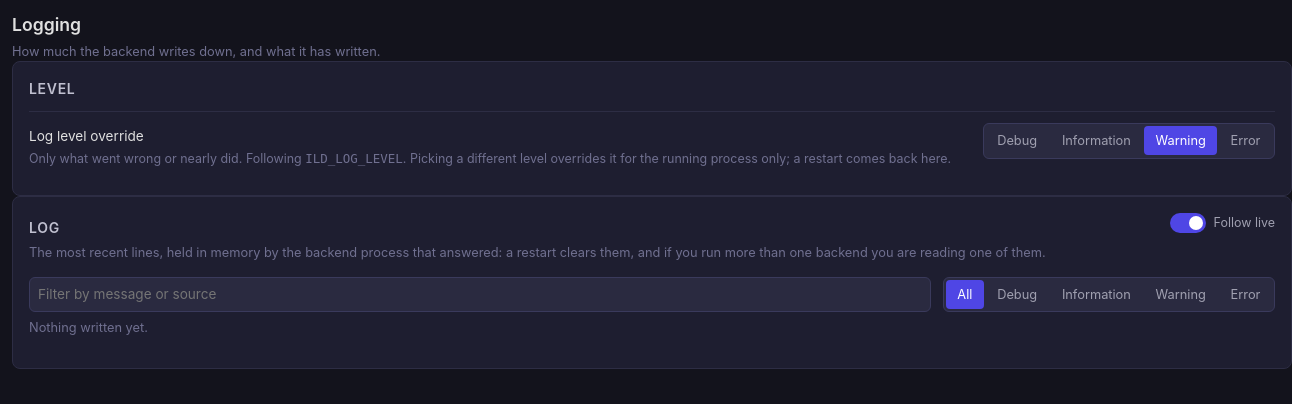
it: Logging settings level › goes back to the level the backend reported when the API refuses the change
This screenshot has width=1292, height=404.
Click the button "Debug" in the row of "ILD_LOG_LEVEL": (1017, 141) 986,126 -> 1048,155
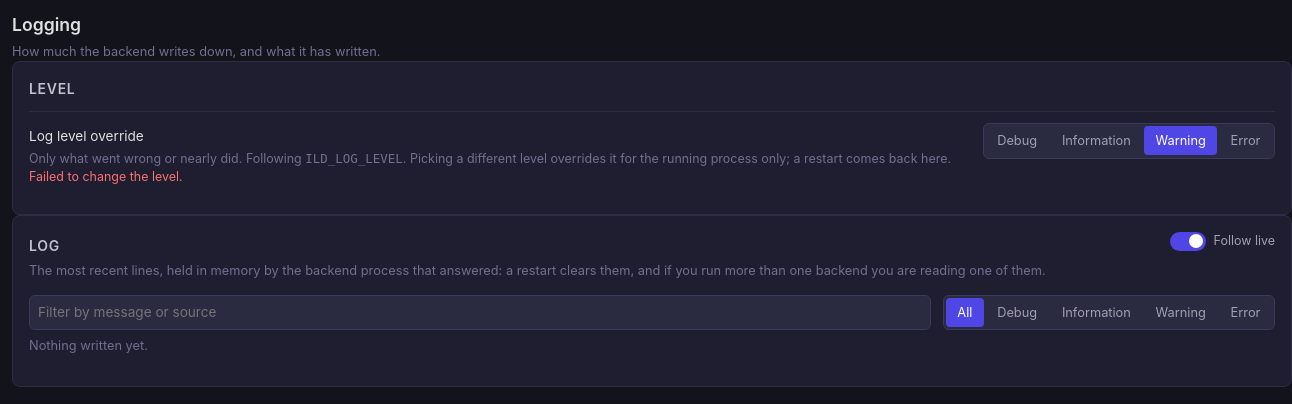
Now the text "Failed to change the level." is shown, box 29,169 -> 183,184
